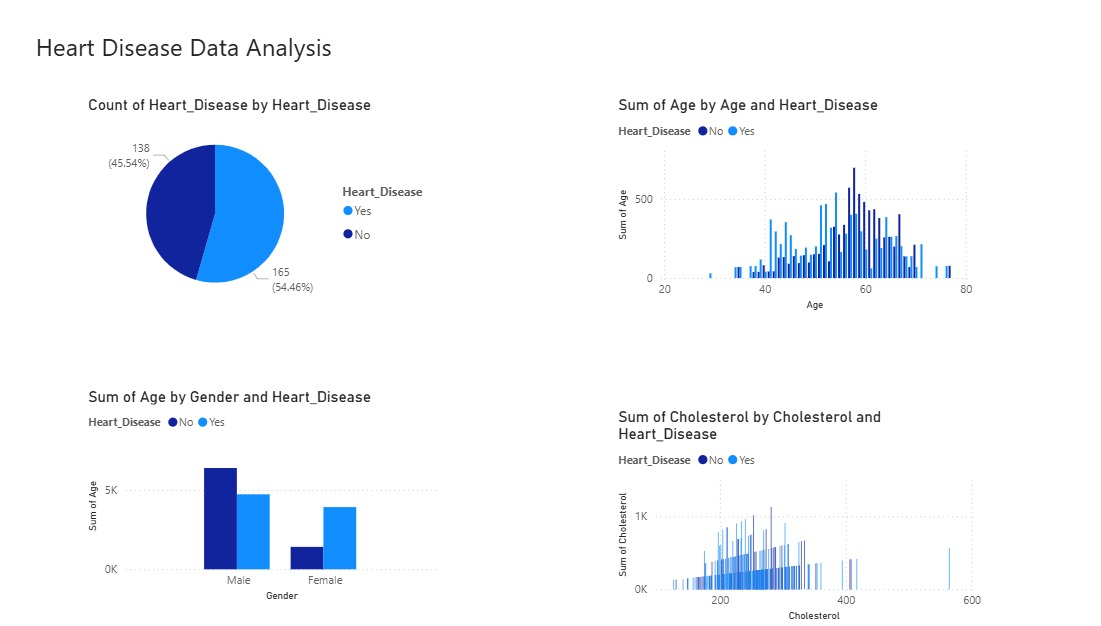

What the dashboard file says about the page in this screenshot:
{"tool":"powerbi","page":{"name":"Page 1","canvas":[1280,720],"ordinal":0},"visuals":[{"type":"textbox","box":[50.8,42.5,451.5,45.3],"z":0},{"type":"pieChart","fields":{"Category":["heart_disease (2).Heart_Disease"],"Y":["CountNonNull(heart_disease (2).Heart_Disease)"]},"box":[108.4,119.4,393.8,240.1],"z":1000},{"type":"clusteredColumnChart","fields":{"Series":["heart_disease (2).Heart_Disease"],"Category":["heart_disease (2).Gender"],"Y":["Sum(heart_disease (2).Age)"]},"box":[108.4,439.1,393.8,240.1],"z":2000},{"type":"clusteredColumnChart","fields":{"Category":["heart_disease (2).Age"],"Series":["heart_disease (2).Heart_Disease"],"Y":["Sum(heart_disease (2).Age)"]},"box":[690.2,119.4,399.3,240.1],"z":3000},{"type":"clusteredColumnChart","fields":{"Series":["heart_disease (2).Heart_Disease"],"Category":["heart_disease (2).Cholesterol"],"Y":["Sum(heart_disease (2).Cholesterol)"]},"box":[686.1,439.1,408.9,240.1],"z":3001}]}

Visuals, with their boxes in screenshot pixels (x1, y1, x2, y2), scaled from the page's 1280x720 canvas onto the 1101x626 screenshot:
textbox: 44,37,432,76
pieChart - heart_disease (2).Heart_Disease x CountNonNull(heart_disease (2).Heart_Disease): 93,104,432,313
clusteredColumnChart - heart_disease (2).Heart_Disease x heart_disease (2).Gender: 93,382,432,591
clusteredColumnChart - heart_disease (2).Age x heart_disease (2).Heart_Disease: 594,104,937,313
clusteredColumnChart - heart_disease (2).Heart_Disease x heart_disease (2).Cholesterol: 590,382,942,591
